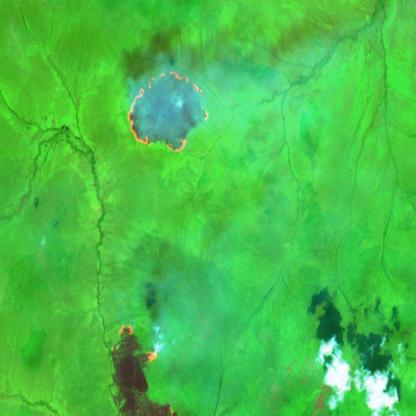fire: (123, 62, 212, 160), (113, 316, 166, 369)
